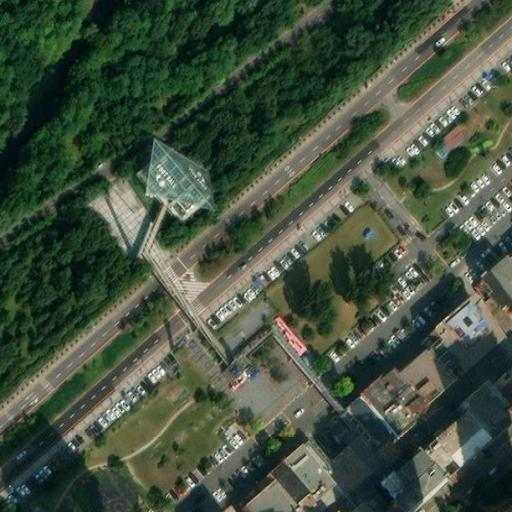building: (351, 276, 511, 425), (393, 363, 512, 498), (244, 434, 340, 512), (127, 137, 210, 222), (488, 248, 512, 294)
